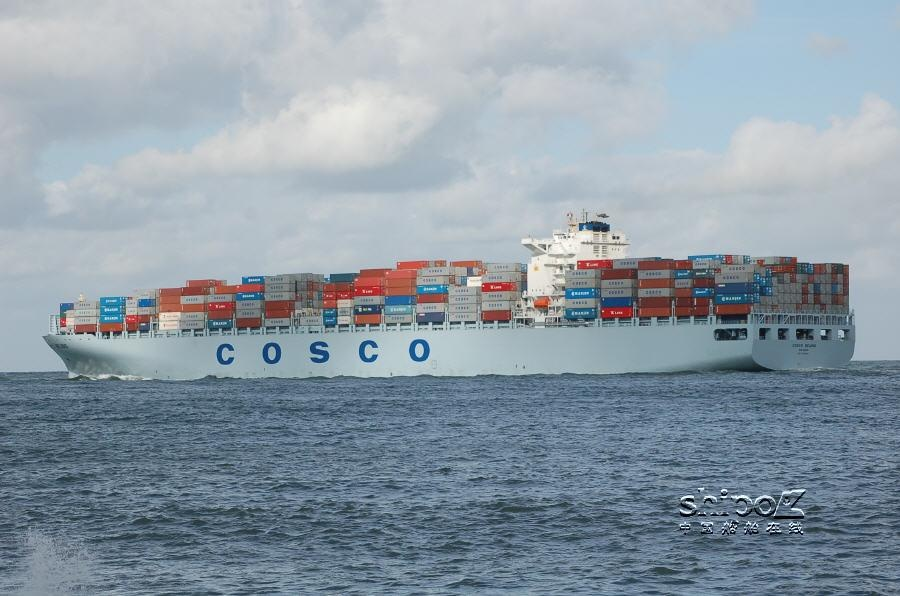Cargoship: (35, 200, 860, 395)
